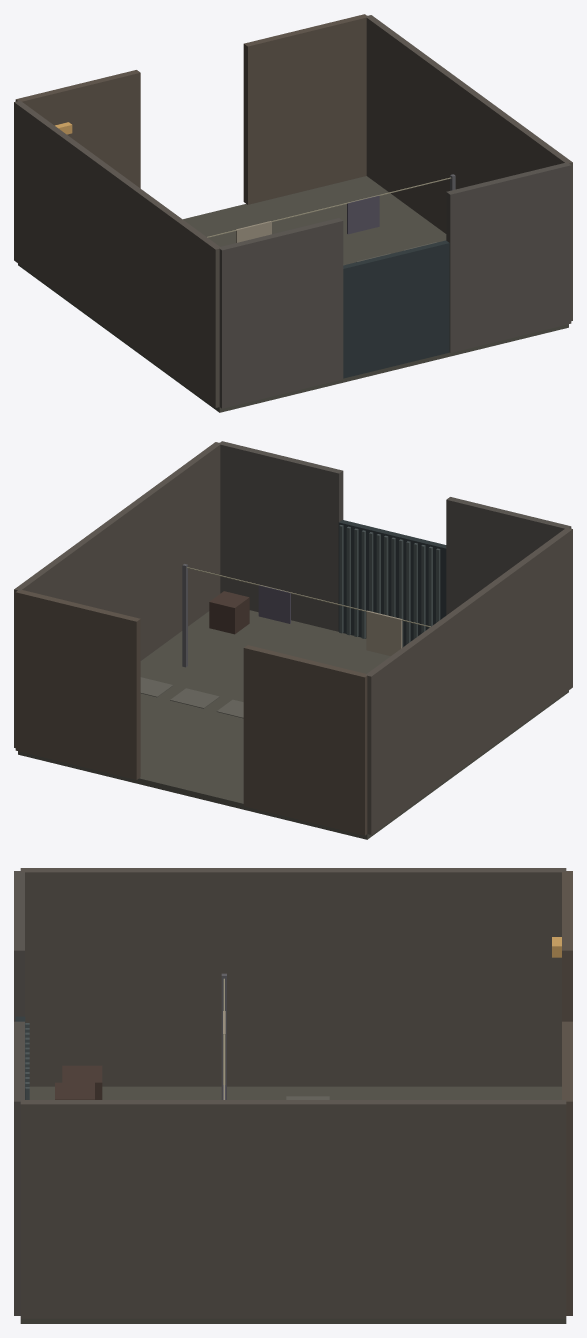
Rendered from patioTrasero.obj.
The picture shows the model from 3 angles, top to bottom: view 1: azimuth 30°, elevation 25°; view 2: azimuth 150°, elevation 25°; view 3: azimuth 270°, elevation 25°; orthographic projection. The views are drawn at different scales.
Visible parts, largest first — view 1: patioTrasero_obj_1, patioTrasero_obj_2, patioTrasero_obj_3, patioTrasero_obj_6, patioTrasero_obj_5, patioTrasero_obj_7, patioTrasero_obj_0, patioTrasero_obj_4, patioTrasero_decor; view 2: patioTrasero_obj_1, patioTrasero_obj_0, patioTrasero_obj_2, patioTrasero_obj_6, patioTrasero_obj_4, patioTrasero_obj_5, patioTrasero_decor, patioTrasero_obj_3, patioTrasero_obj_7, patioTrasero_obj_29; view 3: patioTrasero_obj_2, patioTrasero_obj_1, patioTrasero_obj_0, patioTrasero_obj_6, patioTrasero_obj_5, patioTrasero_obj_4, patioTrasero_obj_3, patioTrasero_decor, patioTrasero_obj_27, patioTrasero_obj_28.
Part boxes in pixels (box(x1,y1,x2,y2)): patioTrasero_obj_1: box(14, 100, 221, 407); patioTrasero_obj_2: box(366, 15, 572, 320); patioTrasero_obj_3: box(218, 218, 343, 408); patioTrasero_obj_6: box(243, 14, 366, 204); patioTrasero_obj_5: box(446, 163, 571, 352); patioTrasero_obj_7: box(343, 240, 449, 378); patioTrasero_obj_0: box(18, 176, 568, 412); patioTrasero_obj_4: box(15, 70, 140, 188); patioTrasero_decor: box(54, 122, 455, 265); patioTrasero_obj_1: box(365, 527, 572, 834); patioTrasero_obj_0: box(18, 610, 568, 839); patioTrasero_obj_2: box(14, 442, 221, 747); patioTrasero_obj_6: box(15, 590, 140, 779); patioTrasero_obj_4: box(243, 645, 367, 835); patioTrasero_obj_5: box(220, 441, 343, 631); patioTrasero_decor: box(140, 525, 440, 718); patioTrasero_obj_3: box(446, 497, 571, 615); patioTrasero_obj_7: box(338, 520, 446, 647); patioTrasero_obj_29: box(209, 591, 249, 634); patioTrasero_obj_2: box(20, 1100, 566, 1318); patioTrasero_obj_1: box(20, 868, 566, 1086); patioTrasero_obj_0: box(20, 1086, 566, 1323); patioTrasero_obj_6: box(562, 1021, 572, 1315); patioTrasero_obj_5: box(14, 1021, 24, 1315); patioTrasero_obj_4: box(562, 871, 572, 1021); patioTrasero_obj_3: box(14, 871, 24, 1021); patioTrasero_decor: box(25, 937, 561, 1099); patioTrasero_obj_27: box(62, 1065, 102, 1099); patioTrasero_obj_28: box(55, 1082, 94, 1099).
Bounding box in the file's own units: 15.35 × 6.74 × 15.36.
